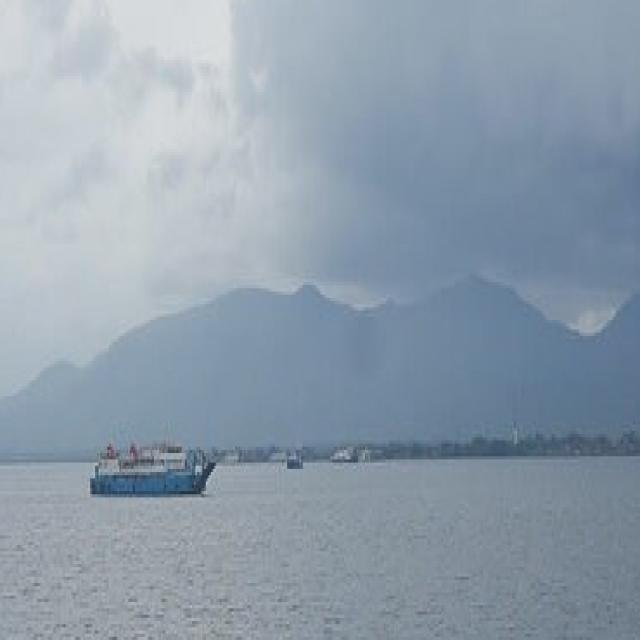fishing boat: (89, 436, 218, 499)
